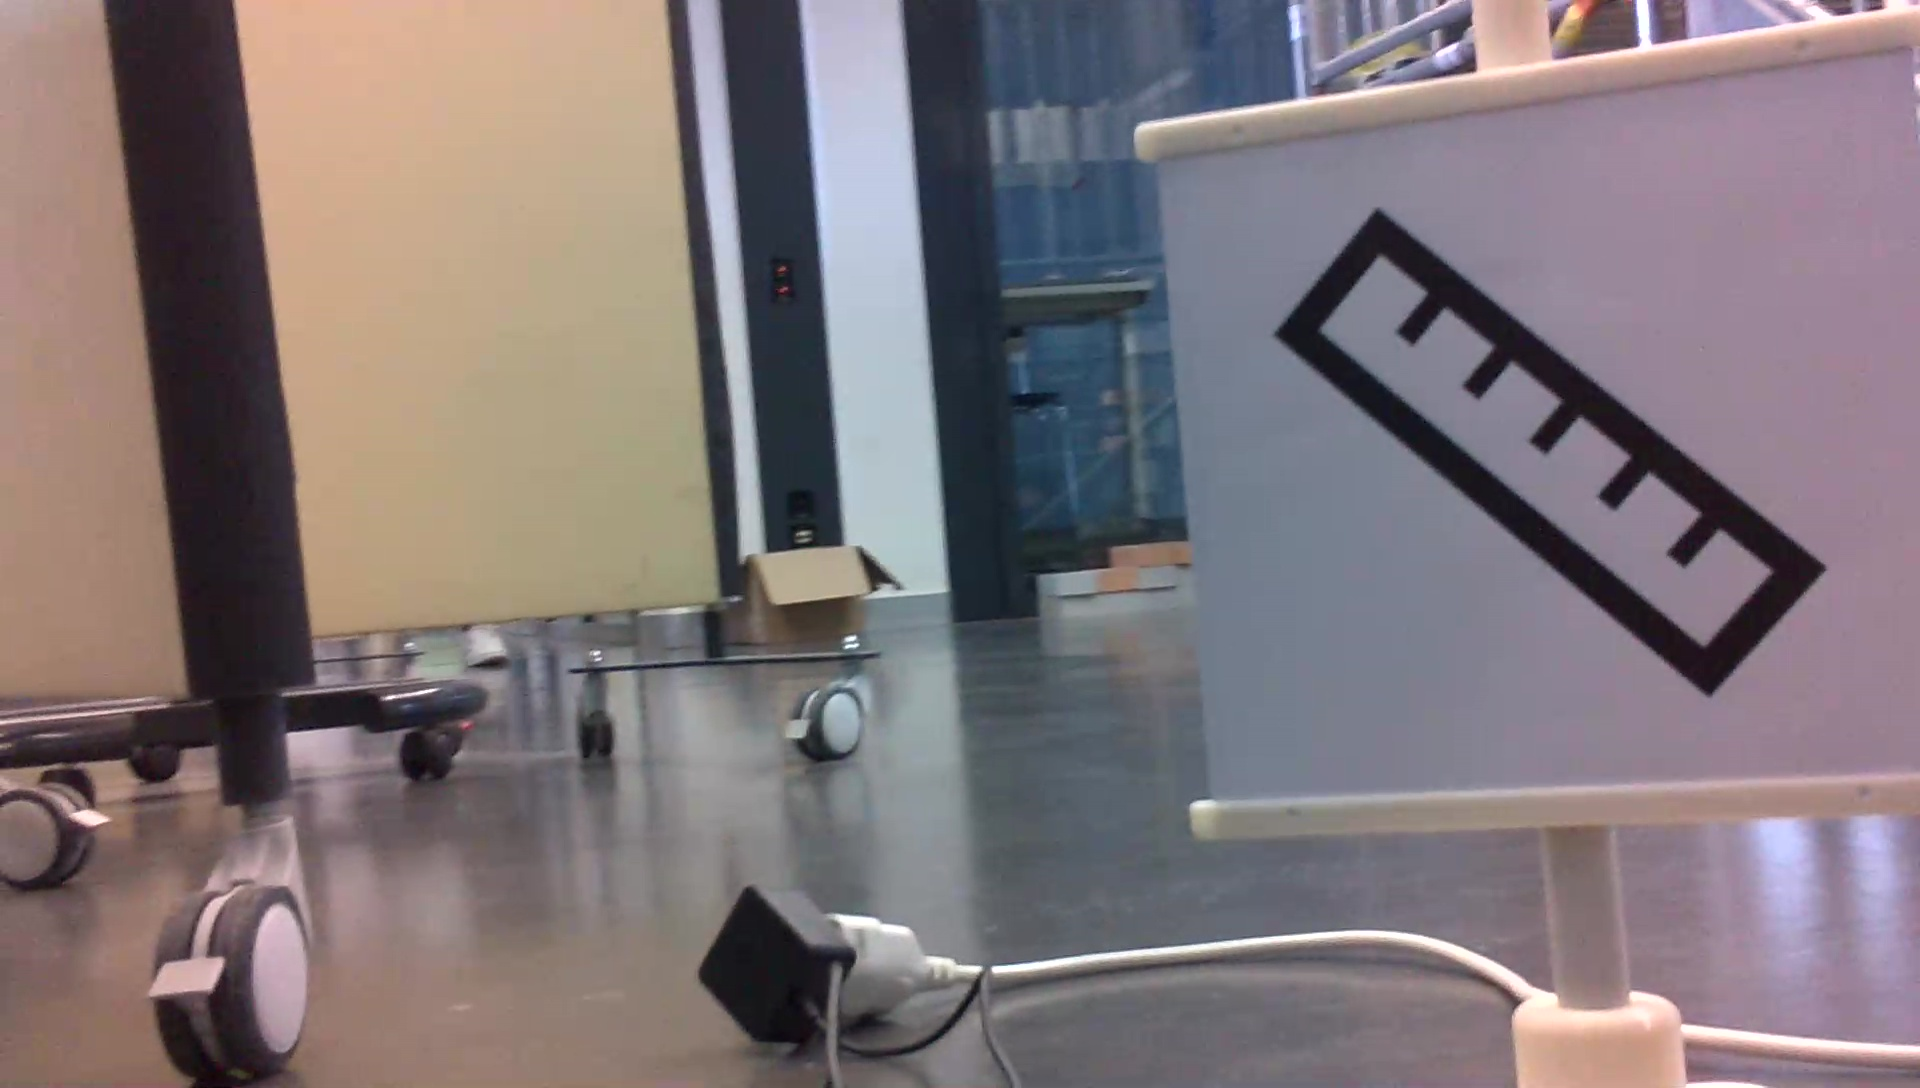ruler: (1262, 195, 1821, 725)
